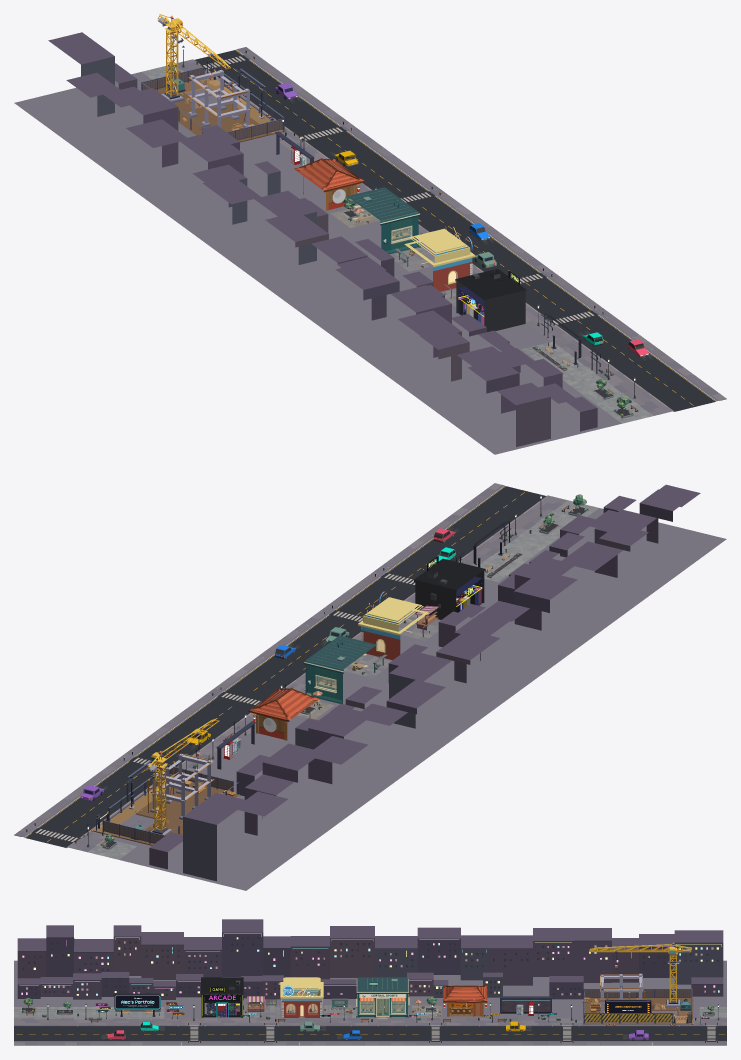
The model's file is Main_street.glb.
3 views of the same model, one above another, from view 1: azimuth 30°, elevation 25°; view 2: azimuth 150°, elevation 25°; view 3: azimuth 270°, elevation 25° (orthographic). The views are drawn at different scales.
Parts seen in each view (by area): view 1: Pavement, Background Buildings, Road, Near Sidewalk, Projects, Park floor, Sports, Experience, ground, Building, About me, fences (+2 smaller); view 2: Pavement, Background Buildings, Road, Near Sidewalk, Park floor, Projects, Sports, Experience, ground, About me, Building, fences (+4 smaller); view 3: Background Buildings, Road, Pavement, Near Sidewalk, Sports, fences, Park floor, Projects, Experience, Road Paint, About me, Kerb (+15 smaller).
Part boxes in pixels (x1,y1,x2,y2): Pavement: (14,59,672,454); Background Buildings: (48,32,597,446); Road: (195,49,718,411); Near Sidewalk: (238,47,726,400); Projects: (455,262,526,331); Park floor: (141,65,653,423); Sports: (347,187,421,254); Experience: (404,228,475,291); ground: (155,77,286,142); Building: (187,65,251,127); About me: (294,158,364,210); fences: (141,65,284,140); Pavement: (68,495,726,890); Background Buildings: (149,484,700,881); Road: (22,485,545,847); Near Sidewalk: (14,483,501,836); Park floor: (88,500,598,859); Projects: (414,556,485,619); Sports: (303,635,376,703); Experience: (358,597,428,660); ground: (93,780,239,845); About me: (248,688,318,740); Building: (147,749,214,819); fences: (96,764,238,843); Background Buildings: (17,919,723,999); Road: (14,1026,726,1042); Pavement: (14,960,726,1025); Near Sidewalk: (14,1042,726,1045); Sports: (356,977,409,1018); fences: (583,988,692,1023); Park floor: (14,1007,726,1018); Projects: (201,977,243,1017); Experience: (280,977,323,1017); Road Paint: (14,1027,726,1041); About me: (443,985,487,1016); Kerb: (14,1025,726,1026).
Size of the model in its own units: 654 by 244 by 2345.
175 materials, 14 textured.
